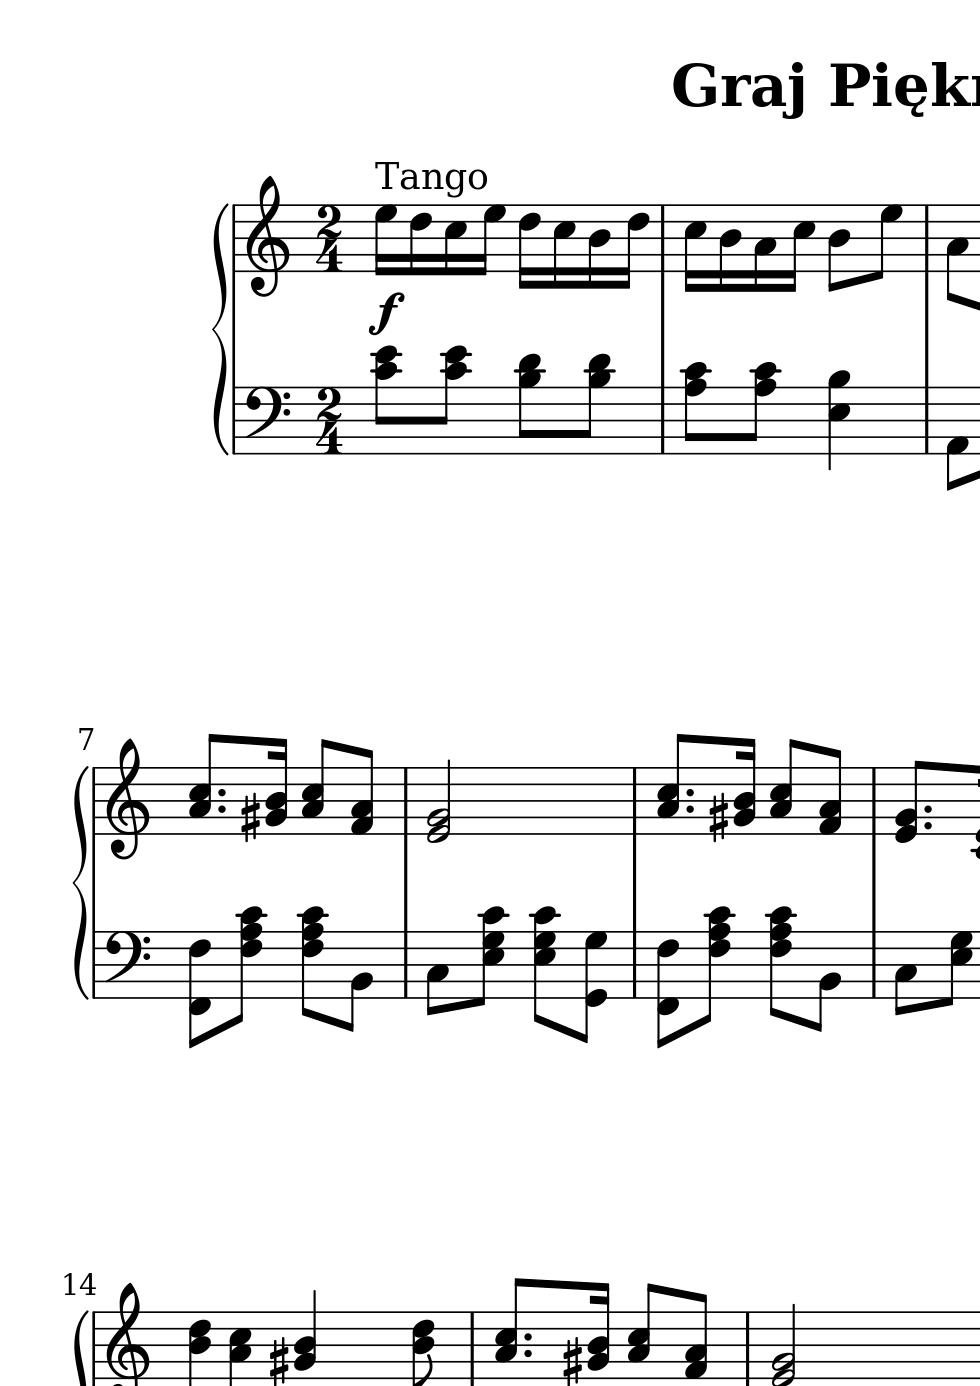1: (62, 1271, 77, 1298)
16_2_4: (265, 735, 291, 837), (588, 1278, 612, 1380), (735, 735, 757, 837)
16_3: (750, 201, 776, 293)
16_4: (717, 201, 742, 293), (587, 203, 610, 290)
16_5: (784, 201, 815, 293), (682, 201, 707, 293), (552, 201, 576, 290), (441, 203, 467, 277)
16_6: (616, 201, 650, 290), (517, 201, 540, 291), (408, 203, 432, 277)
16_7: (473, 201, 506, 276), (372, 203, 396, 278)
2: (314, 201, 344, 239), (314, 385, 343, 421)
2_0_2: (770, 1303, 799, 1386), (426, 757, 453, 844)
4: (313, 419, 345, 454), (313, 236, 344, 271), (78, 1270, 98, 1298)
4_2_4: (293, 1289, 319, 1380)
4_4_6: (187, 1309, 212, 1386)
4_5_9: (827, 367, 851, 472)
7: (77, 724, 97, 753)
8_-1_6: (186, 929, 212, 1050), (655, 929, 681, 1050)
8_0_2: (893, 759, 927, 844)
8_0_7: (577, 929, 610, 1045)
8_1: (943, 386, 968, 493)
8_10_12: (368, 344, 404, 456), (435, 343, 471, 455)
8_1_3: (816, 745, 845, 837), (683, 1288, 711, 1382), (349, 745, 375, 837)
8_2: (809, 928, 841, 1034), (342, 929, 373, 1034)
8_3: (943, 201, 970, 309), (891, 929, 917, 1019), (423, 929, 449, 1017)
8_3_5: (187, 731, 221, 836), (626, 1281, 662, 1379), (493, 1276, 527, 1379), (657, 731, 689, 835), (769, 737, 803, 837), (301, 737, 335, 836)
8_4: (825, 203, 850, 293)
8_5_7: (940, 929, 975, 1008)
8_7: (869, 201, 902, 282)
8_8_10: (743, 361, 781, 454), (680, 359, 713, 456)
8_9_11: (513, 352, 545, 457), (581, 351, 613, 456)
8_th: (696, 903, 737, 1029), (229, 905, 268, 1029), (527, 905, 561, 1036), (470, 905, 510, 1008), (764, 905, 797, 1027), (297, 903, 329, 1025)
Brace: (210, 203, 229, 456), (71, 762, 89, 1003)
Fclef: (101, 929, 151, 1001), (241, 385, 290, 456)
Gclef: (103, 737, 152, 861), (244, 173, 291, 298), (103, 1281, 151, 1386)
Sharp: (266, 1334, 291, 1386), (238, 791, 261, 845), (560, 1336, 584, 1386), (707, 791, 729, 845)
Single_barline: (653, 387, 672, 454), (397, 766, 415, 836), (625, 767, 643, 834), (654, 205, 671, 271), (865, 767, 882, 834), (463, 1312, 480, 1379), (918, 388, 935, 454), (397, 932, 414, 997), (626, 932, 643, 997), (865, 932, 882, 997), (920, 205, 935, 273), (739, 1312, 755, 1379), (227, 204, 242, 271), (88, 767, 102, 835), (228, 387, 241, 455), (88, 932, 101, 998), (88, 1312, 101, 1378)
TimeSig: (313, 204, 345, 271), (314, 387, 343, 455)
dot: (921, 802, 937, 815), (921, 820, 935, 834), (520, 1347, 533, 1359), (215, 786, 228, 799), (683, 786, 696, 799), (683, 803, 696, 815), (521, 1330, 533, 1343), (215, 803, 227, 815)
f: (367, 291, 405, 335)
